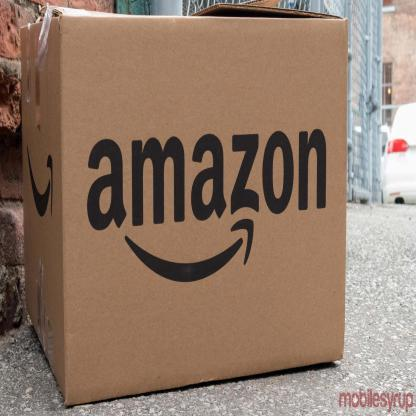package: (20, 5, 345, 409)
